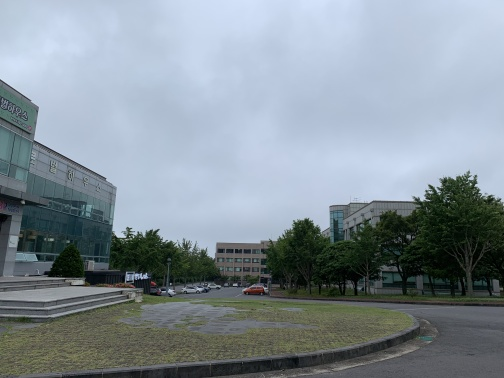Global House: (1, 79, 146, 315)
Joint Experimental Labs: (214, 238, 276, 283)
Second Library: (316, 198, 420, 242), (372, 264, 494, 299)
